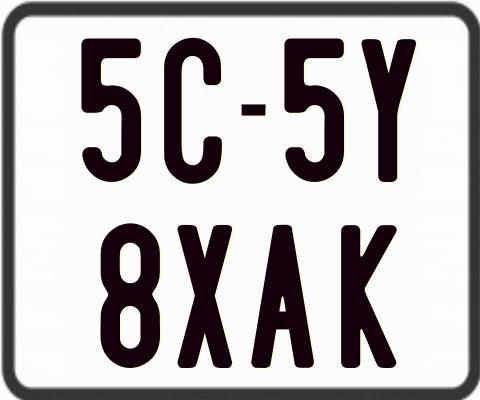5: (78, 37, 143, 181), (281, 37, 344, 184)
8: (97, 222, 157, 370)
A: (251, 223, 316, 367)
C: (161, 38, 221, 187)
K: (340, 225, 399, 372)
X: (176, 225, 231, 370)
Y: (361, 38, 417, 186)
